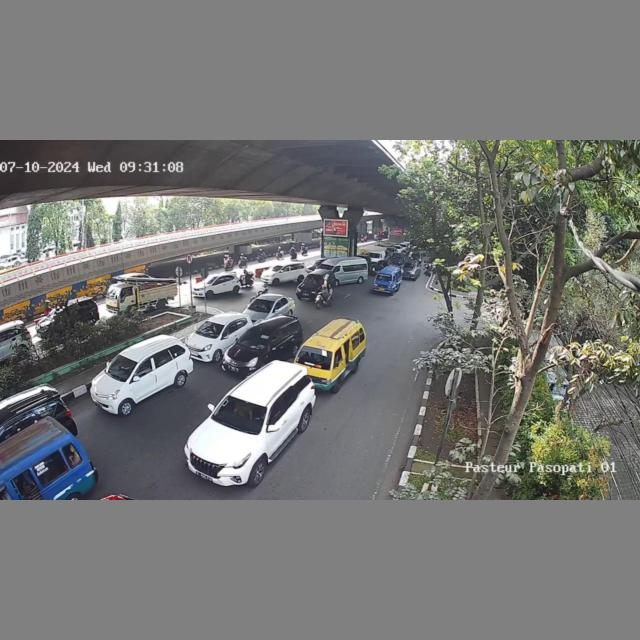windshield: (213, 395, 268, 432), (234, 332, 272, 353), (297, 347, 332, 369), (105, 356, 137, 380), (197, 319, 224, 336), (246, 301, 272, 316), (304, 273, 325, 285)
